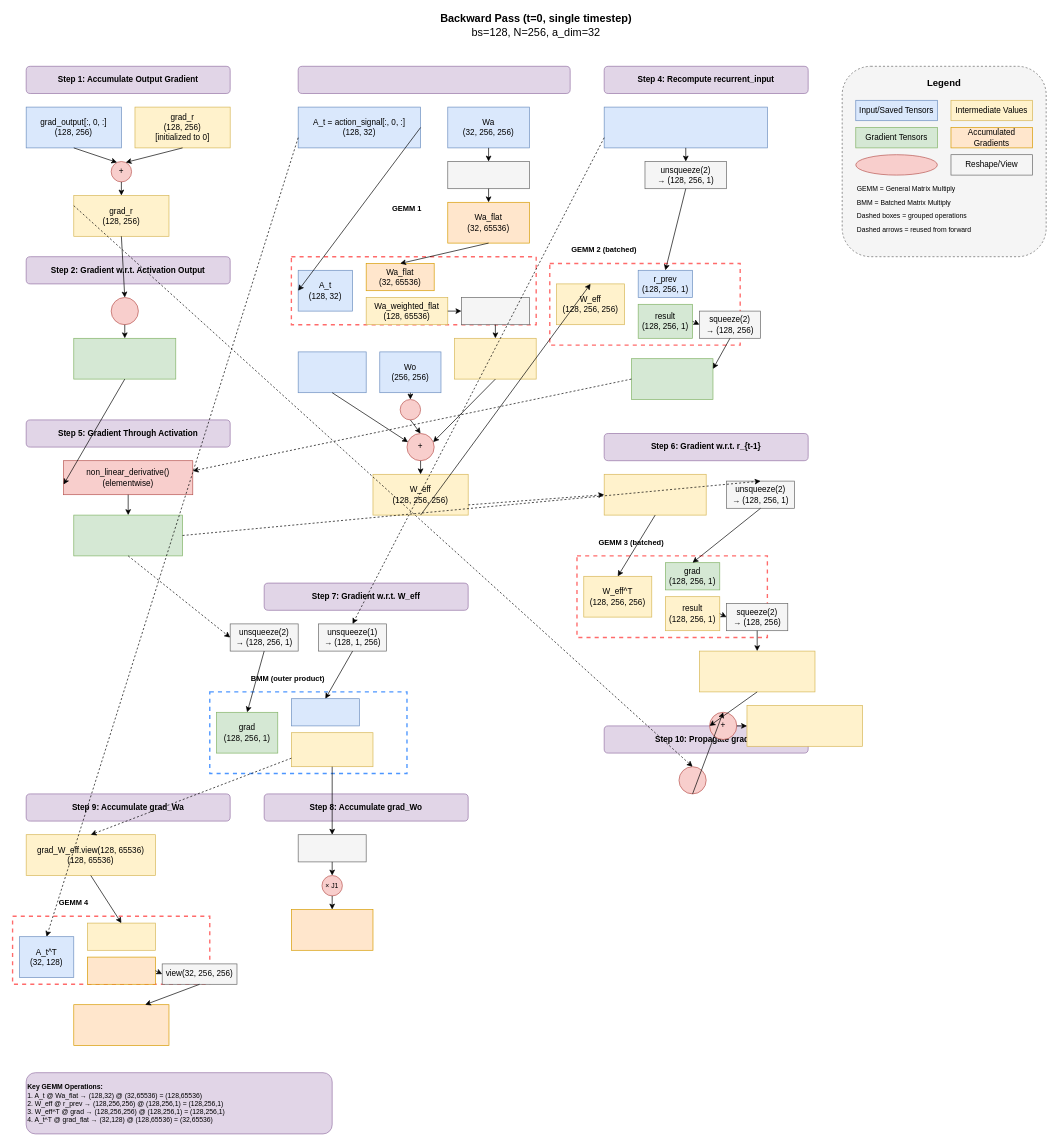
This 1058x1146 diagram has some shape labels left out. Here are the shapes that lost their labels. From the top down, the centre of each, then its label:
At (434,80): "Step 3: Recompute W_eff (Forward Computation)".
At (685,127): "r_prev = bump_history_full[:, 0, :] (r_init) (128, 256)".
At (488,175): "view(32, 65536)".
At (896,164): "Operations".
At (124,311): "× α".
At (495,311): "view(128, 256, 256)".
At (124,358): "grad_recurrent_activated (128, 256)".
At (332,372): "J0 (256, 256)".
At (495,358): "Wa_weighted (128, 256, 256)".
At (672,379): "recurrent_input (128, 256)".
At (410,409): "J1 ×".
At (655,494): "W_eff.transpose(1, 2) (128, 256, 256)".
At (128,535): "grad_recurrent_input (128, 256)".
At (757,671): "grad_r_from_recurrent (128, 256)".
At (325,712): "r_prev (128, 1, 256)".
At (804,725): "grad_r (next iteration) (128, 256)".
At (332,749): "grad_W_eff (128, 256, 256)".
At (692,780): "× (1-α)".
At (332,848): "sum(dim=0) → (256, 256)".
At (121,936): "grad (128, 65536)".
At (332,929): "grad_Wo += (256, 256)".
At (121,970): "grad_Wa_flat (32, 65536)".
At (121,1025): "grad_Wa += (32, 256, 256)".
